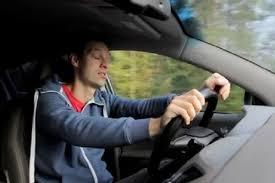Drowsy: (70, 33, 118, 92)
